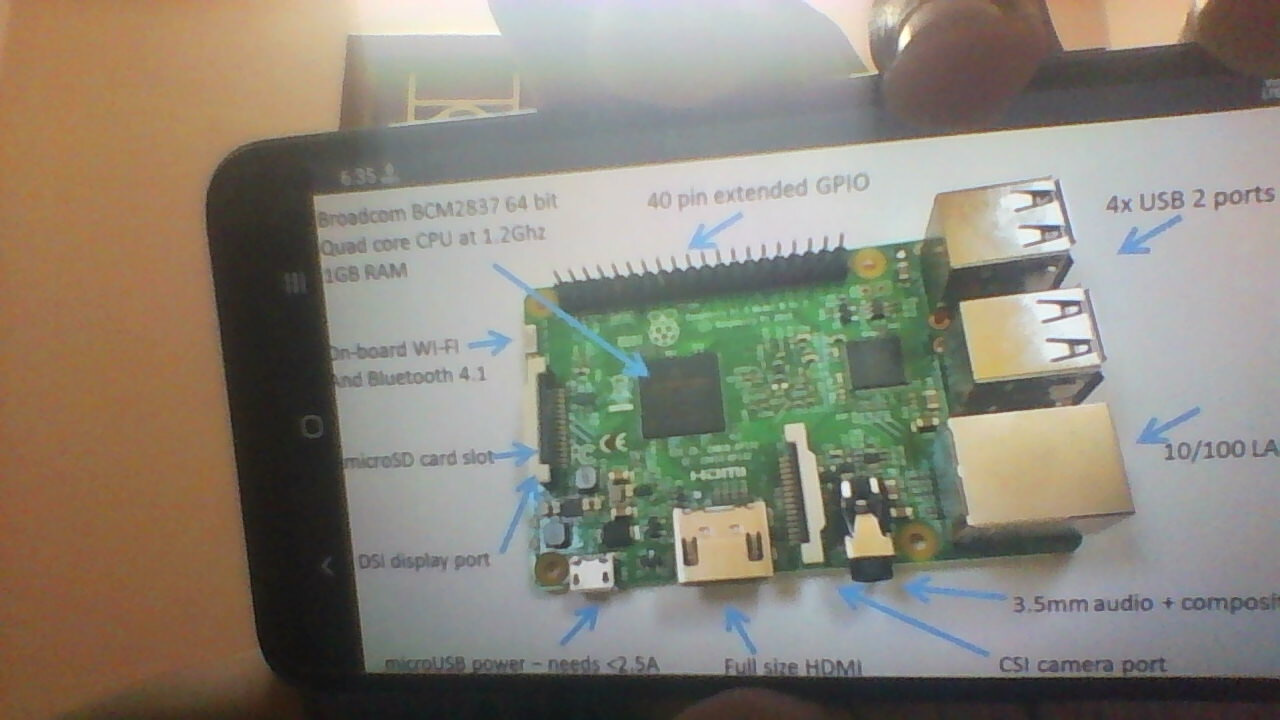aud: (832, 472, 901, 588)
eth: (937, 407, 1139, 531)
usb: (951, 293, 1112, 395), (922, 172, 1085, 270)
